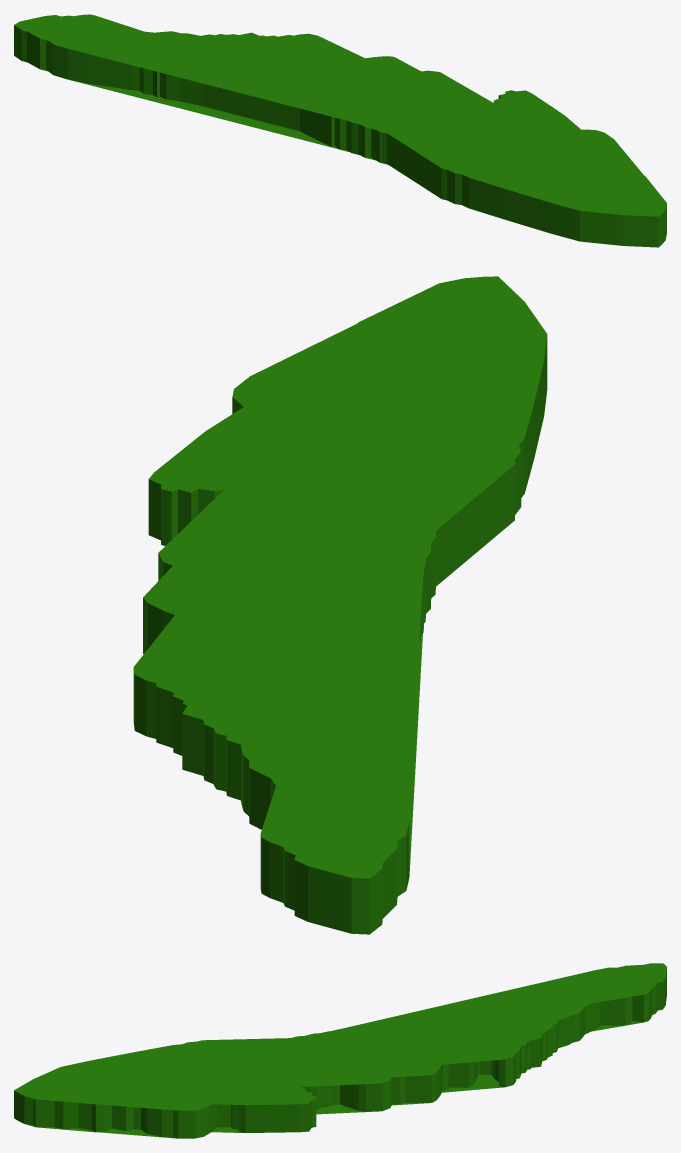
File: kerala.fbx
3 views of the same model, one above another, from view 1: azimuth 30°, elevation 25°; view 2: azimuth 150°, elevation 25°; view 3: azimuth 270°, elevation 25° (orthographic). The views are drawn at different scales.
Visible parts, largest first — view 1: Kerala; view 2: Kerala; view 3: Kerala.
Boxes of the visible parts, left/top/right/bottom form: Kerala: left=14, top=14, right=666, bottom=247; Kerala: left=133, top=276, right=547, bottom=934; Kerala: left=14, top=963, right=666, bottom=1138.
Bounding box in the file's own units: 39.76 × 3.51 × 74.39.
